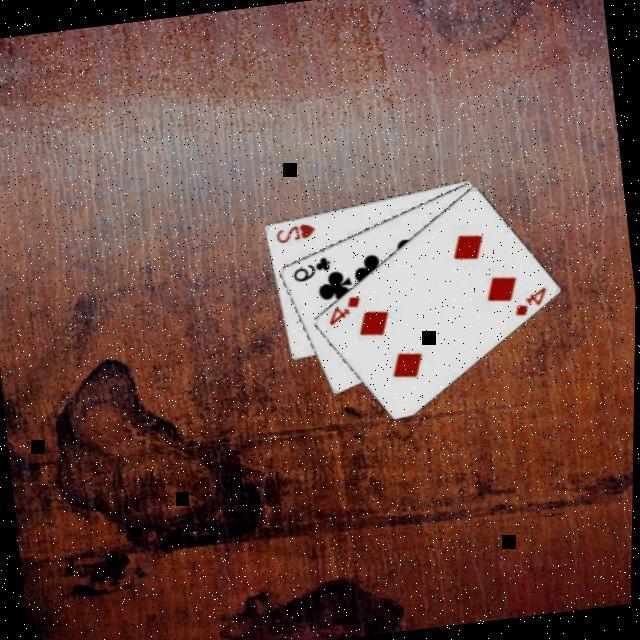2H: (272, 216, 320, 245)
4D: (323, 289, 366, 326), (509, 281, 552, 318)
9C: (289, 251, 336, 284)
